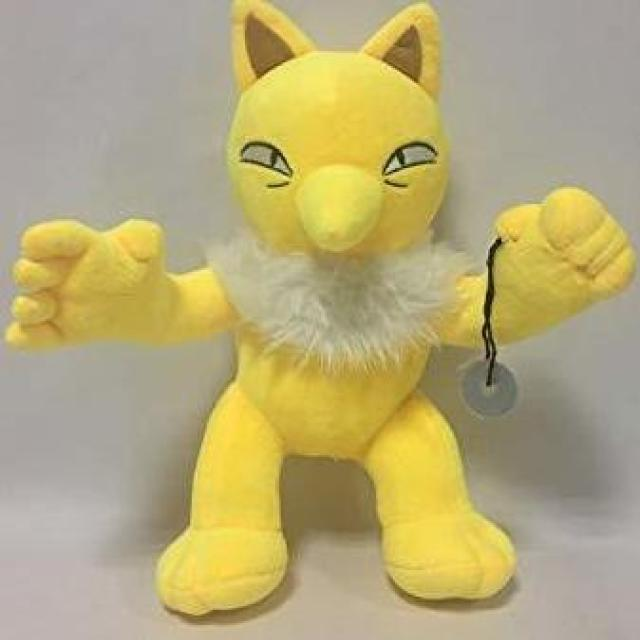Hypno: (21, 2, 620, 616)
